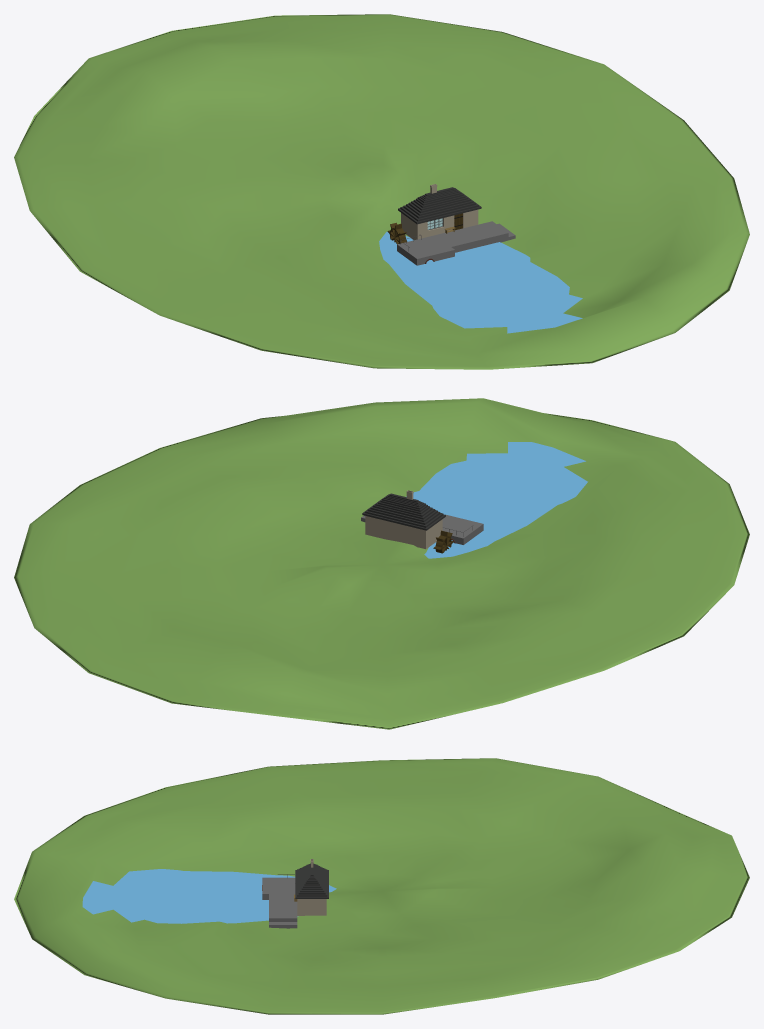
The model's file is landscape.fbx.
3 views of the same model, one above another, from view 1: azimuth 30°, elevation 25°; view 2: azimuth 150°, elevation 25°; view 3: azimuth 270°, elevation 25° (orthographic). The views are drawn at different scales.
Parts seen in each view (by area): view 1: hill, water, housebase, polySurface1; view 2: hill, water, housebase, polySurface1; view 3: hill, water, housebase, polySurface1.
Boxes of the visible parts, x1,y1,x2,y2 form: hill: (14,14,749,369); water: (379,231,582,333); housebase: (398,184,481,240); polySurface1: (397,221,515,265); hill: (14,398,749,729); water: (406,442,587,558); housebase: (362,490,445,549); polySurface1: (361,515,483,544); hill: (14,758,749,1014); water: (82,869,336,923); housebase: (295,859,328,915); polySurface1: (262,877,297,928).
Bounding box in the file's own units: 60.89 × 5.69 × 73.43.
